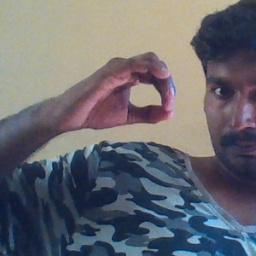O: (54, 48, 176, 135)
